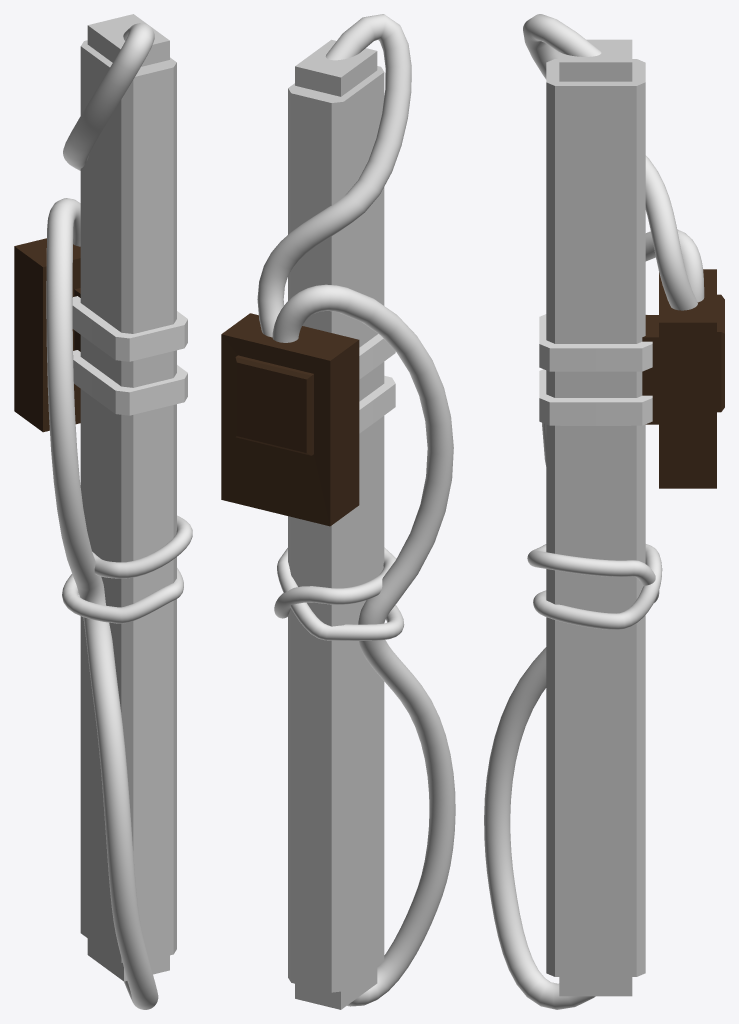
File: aaaaaaa.fbx
3 renders of one model, left to right at view 1: azimuth 30°, elevation 25°; view 2: azimuth 150°, elevation 25°; view 3: azimuth 270°, elevation 25°, orthographic.
Parts seen in each view (by area): view 1: battery, BezierCurve.001, Cube, contraptop, BezierCurve.002, BezierCurve, connector; view 2: battery, contraptop, BezierCurve.001, BezierCurve, BezierCurve.002, connector, Cube; view 3: battery, contraptop, BezierCurve.001, Cube, BezierCurve, BezierCurve.002, connector.
Boxes of the visible parts, x1,y1,x2,y2 form: battery: [80, 40, 176, 962]; BezierCurve.001: [46, 198, 158, 1009]; Cube: [72, 296, 187, 415]; contraptop: [14, 238, 80, 432]; BezierCurve.002: [62, 515, 192, 623]; BezierCurve: [63, 23, 154, 170]; connector: [87, 14, 169, 981]; battery: [288, 66, 384, 992]; contraptop: [221, 313, 359, 526]; BezierCurve.001: [272, 284, 455, 1006]; BezierCurve: [257, 14, 411, 337]; BezierCurve.002: [274, 547, 404, 640]; connector: [295, 39, 377, 1009]; Cube: [359, 334, 395, 433]; battery: [546, 59, 645, 976]; contraptop: [642, 269, 724, 488]; BezierCurve.001: [484, 229, 704, 1009]; Cube: [539, 314, 652, 425]; BezierCurve: [523, 14, 697, 310]; BezierCurve.002: [527, 544, 662, 629]; connector: [559, 39, 632, 996].
Bounding box in the file's own units: 0.0847 × 0.1171 × 0.5296.
